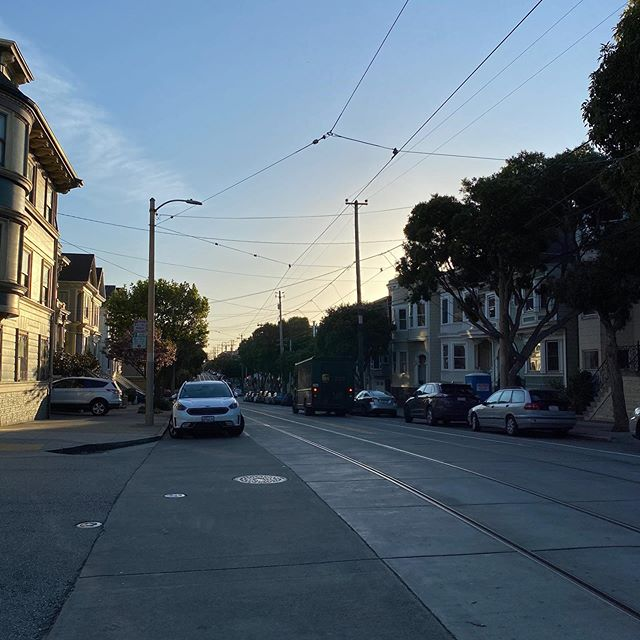building: (1, 49, 89, 418), (58, 246, 107, 369)
car: (475, 387, 579, 441), (169, 375, 249, 441), (404, 374, 477, 428), (50, 373, 129, 419), (350, 381, 396, 418)
sky: (90, 1, 573, 255)
street: (26, 416, 640, 640)
tree: (406, 163, 569, 383), (111, 275, 213, 377), (317, 294, 389, 390)
truck: (288, 355, 354, 415)
